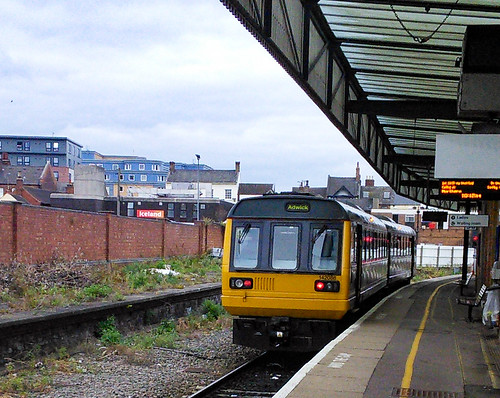building: (80, 153, 198, 215), (1, 138, 76, 206), (172, 167, 242, 212), (320, 174, 392, 205)
sky: (1, 1, 341, 181)
train: (215, 203, 417, 320)
train track: (127, 339, 283, 398)
wall: (1, 200, 216, 264)
